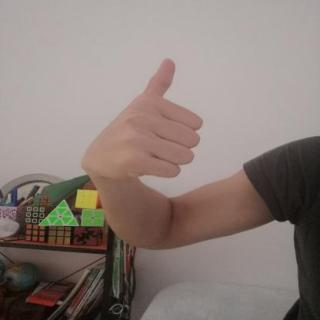ALIF: (74, 42, 211, 187)
